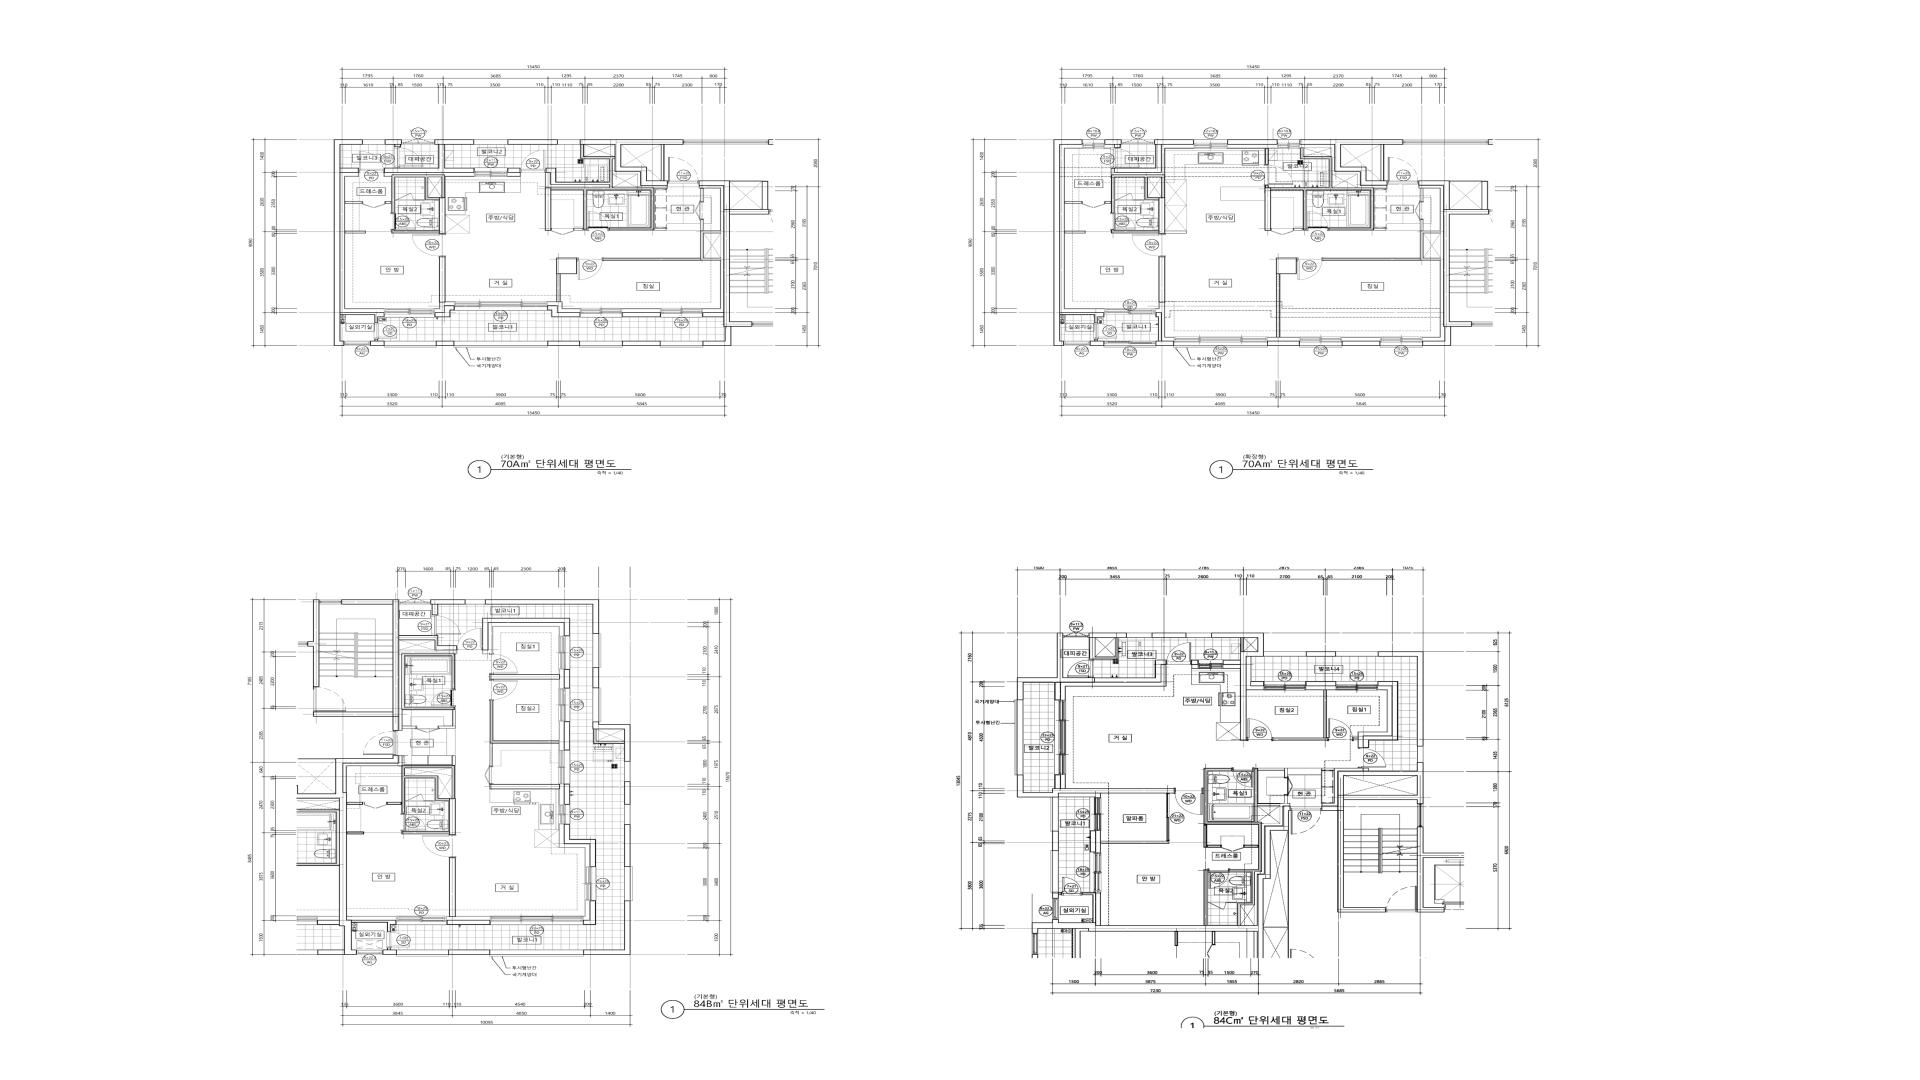door: (1291, 807, 1321, 835), (1387, 157, 1419, 183), (667, 157, 699, 183), (363, 731, 396, 756), (313, 687, 345, 712), (1174, 789, 1204, 815), (1133, 233, 1166, 257), (413, 233, 446, 257), (422, 835, 455, 857), (1265, 165, 1294, 186), (1328, 719, 1354, 741), (1246, 719, 1273, 741), (456, 628, 483, 650), (520, 150, 546, 173), (489, 679, 517, 700), (431, 616, 460, 636), (1110, 148, 1139, 167), (394, 148, 423, 167), (1166, 642, 1191, 665), (1296, 258, 1323, 280), (576, 258, 603, 280), (1358, 748, 1386, 767), (489, 654, 517, 674), (359, 152, 384, 173), (1067, 659, 1095, 678), (1207, 869, 1229, 889), (1307, 211, 1329, 231), (587, 211, 609, 231), (402, 814, 426, 832), (1233, 767, 1254, 787), (431, 690, 455, 707), (1062, 877, 1083, 895), (392, 214, 415, 229), (1095, 323, 1117, 339), (386, 932, 409, 948), (375, 323, 397, 339), (1208, 902, 1237, 910), (1166, 794, 1170, 841), (695, 200, 704, 220), (484, 766, 493, 785), (1284, 777, 1292, 796), (1081, 202, 1105, 208), (1271, 228, 1294, 235), (364, 802, 386, 808), (1221, 845, 1244, 852), (363, 202, 385, 208), (551, 228, 574, 235), (1415, 202, 1423, 220), (405, 794, 423, 802), (417, 727, 438, 733), (1116, 193, 1133, 200), (396, 193, 413, 200)
wall: (1031, 806, 1290, 959), (1323, 186, 1445, 342), (313, 600, 456, 731), (1321, 762, 1424, 913), (1204, 767, 1290, 926), (339, 756, 400, 955), (1419, 181, 1489, 345), (699, 181, 769, 345), (1054, 140, 1104, 345), (334, 140, 384, 345), (1017, 633, 1166, 700), (1271, 145, 1387, 231), (545, 145, 654, 231), (340, 173, 384, 313), (1212, 633, 1265, 741), (603, 220, 720, 261), (1300, 140, 1403, 186), (580, 140, 683, 186), (386, 766, 455, 835), (489, 700, 559, 766), (400, 650, 456, 731), (1378, 651, 1424, 746), (1418, 827, 1464, 913), (485, 600, 599, 634), (1017, 775, 1174, 798), (699, 186, 724, 313), (1110, 140, 1195, 175), (384, 140, 475, 173), (401, 654, 455, 709), (1273, 690, 1328, 741), (483, 618, 570, 650), (1358, 682, 1398, 748), (483, 622, 564, 654), (584, 901, 630, 955), (1263, 831, 1288, 927), (1105, 175, 1166, 214), (343, 756, 402, 793), (1267, 274, 1299, 342), (392, 174, 444, 214), (1321, 767, 1364, 806), (592, 723, 630, 762), (613, 160, 667, 187), (1344, 775, 1418, 795), (563, 824, 596, 866), (559, 824, 589, 866), (1228, 145, 1278, 165), (1155, 302, 1174, 342), (1089, 638, 1118, 659), (1155, 313, 1174, 345), (313, 600, 319, 687), (430, 600, 465, 616), (1423, 233, 1441, 258), (1257, 806, 1280, 824), (489, 785, 560, 790), (489, 674, 560, 679), (384, 173, 475, 177), (547, 302, 580, 313), (547, 306, 580, 316), (438, 709, 455, 729), (556, 257, 576, 274), (1276, 257, 1296, 274), (583, 901, 596, 926), (450, 857, 455, 916), (1265, 186, 1271, 231), (1159, 257, 1166, 302), (439, 257, 446, 302), (624, 824, 630, 866), (1303, 148, 1332, 157), (508, 140, 558, 145), (1228, 140, 1278, 145), (1089, 831, 1101, 852), (1305, 682, 1336, 690), (439, 198, 446, 233), (1159, 198, 1166, 233), (447, 920, 491, 926), (1204, 869, 1208, 926), (448, 949, 489, 955), (435, 302, 455, 313), (435, 306, 455, 316), (1089, 633, 1126, 638), (347, 916, 396, 920), (563, 721, 570, 750), (1112, 229, 1159, 233), (392, 229, 439, 233), (1153, 633, 1187, 638), (1101, 841, 1170, 844), (447, 916, 491, 920), (1305, 651, 1336, 657), (559, 721, 564, 750), (1342, 338, 1381, 342), (1342, 342, 1381, 345), (622, 313, 661, 316), (622, 342, 661, 345), (622, 309, 661, 313), (624, 782, 630, 804), (1381, 145, 1385, 181), (661, 145, 665, 181), (592, 667, 599, 688), (1105, 140, 1122, 148), (385, 140, 402, 148), (583, 901, 589, 920), (563, 785, 570, 804), (1052, 831, 1059, 851), (1267, 342, 1299, 345), (547, 342, 579, 345), (563, 670, 570, 688), (556, 274, 560, 302), (508, 167, 520, 177), (382, 948, 397, 955), (1091, 339, 1104, 345), (371, 339, 384, 345), (559, 785, 563, 804), (559, 670, 563, 688), (436, 342, 454, 345), (1191, 661, 1199, 669), (1064, 231, 1085, 233), (1166, 231, 1187, 233), (700, 189, 704, 202), (345, 231, 365, 233), (345, 202, 363, 204), (1064, 202, 1081, 204), (1449, 181, 1482, 182), (731, 181, 762, 182), (1105, 145, 1114, 149), (1241, 638, 1244, 651), (1052, 893, 1059, 898), (654, 228, 666, 231), (452, 756, 455, 766), (574, 228, 584, 231), (385, 202, 392, 204), (413, 199, 425, 200), (1133, 199, 1143, 200), (423, 800, 434, 802), (1353, 738, 1358, 740), (1059, 893, 1062, 895)
window: (1174, 338, 1267, 348), (491, 916, 583, 926), (1055, 700, 1065, 775), (455, 302, 547, 310), (489, 949, 584, 956), (454, 342, 547, 348), (1015, 700, 1023, 775), (1089, 852, 1101, 893), (396, 916, 447, 926), (384, 309, 435, 318), (1299, 338, 1342, 348), (1379, 338, 1423, 348), (584, 866, 596, 901), (1089, 798, 1101, 831), (1050, 851, 1059, 893), (580, 309, 622, 318), (661, 309, 703, 318), (559, 636, 570, 670), (559, 750, 570, 785), (1104, 342, 1156, 348), (559, 688, 570, 721), (396, 949, 448, 956), (384, 342, 436, 348), (1336, 682, 1378, 690), (1263, 682, 1305, 690), (624, 866, 633, 901), (592, 688, 601, 723), (1193, 140, 1228, 149), (592, 634, 601, 667), (1050, 798, 1059, 831), (475, 167, 508, 177), (579, 342, 622, 348), (661, 342, 703, 348), (1104, 309, 1155, 314), (1199, 659, 1224, 669), (1336, 651, 1378, 657), (1263, 651, 1305, 657), (1122, 138, 1154, 145), (559, 804, 570, 824), (402, 138, 434, 145), (1278, 140, 1300, 149), (1083, 140, 1105, 149), (473, 140, 508, 145), (1063, 632, 1089, 638), (400, 599, 430, 604), (1418, 804, 1424, 827), (1052, 898, 1059, 919), (1126, 633, 1153, 638), (1187, 633, 1212, 638), (624, 804, 630, 824), (624, 762, 630, 782), (558, 140, 580, 145), (363, 140, 385, 145), (356, 951, 382, 955), (1418, 746, 1424, 762), (1064, 342, 1091, 345), (344, 342, 371, 345), (319, 600, 342, 604), (465, 600, 485, 604)
